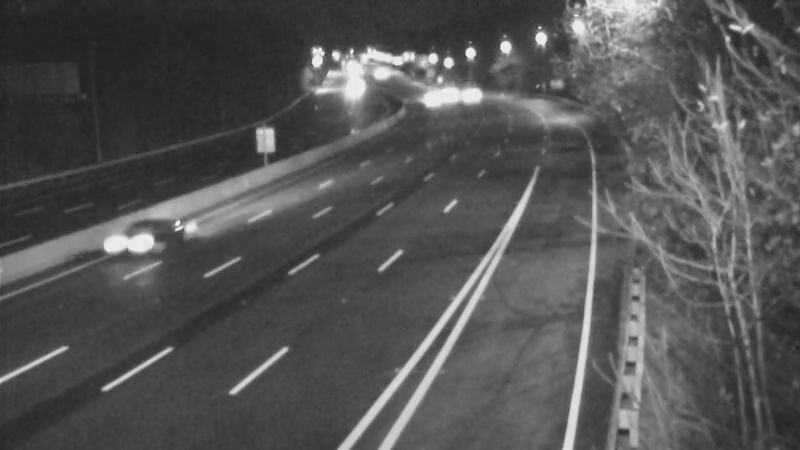vehicle: (99, 201, 179, 281), (424, 66, 474, 116), (395, 69, 445, 119), (451, 70, 501, 120), (330, 63, 380, 113)
